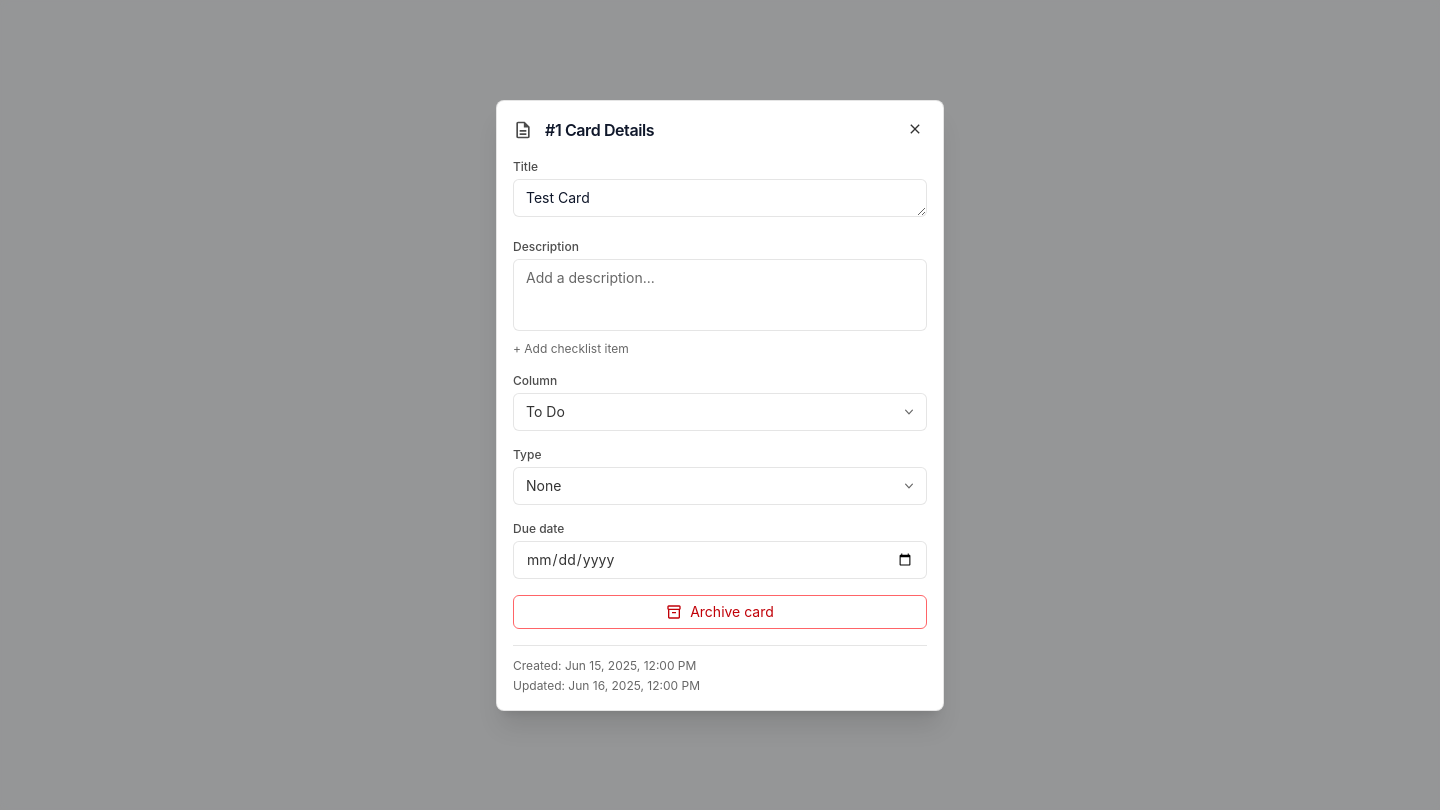
Test: CardDetailModal › clicking placeholder enters edit mode
Click the button with test id "card-detail-description-placeholder": (590, 277) [513,258,927,330]
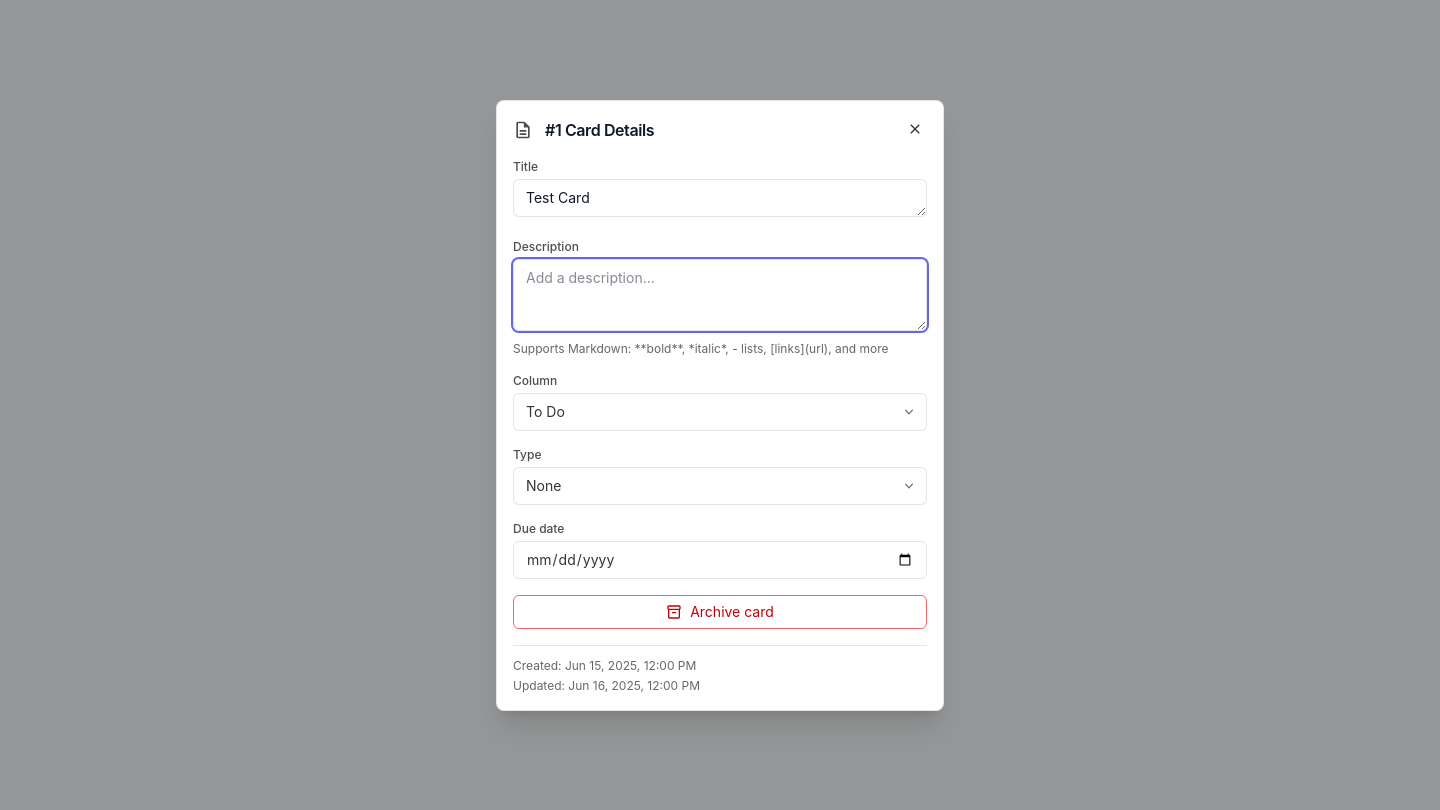
Expected: the text box with test id "card-detail-description" is shown, [513,258,927,330]
